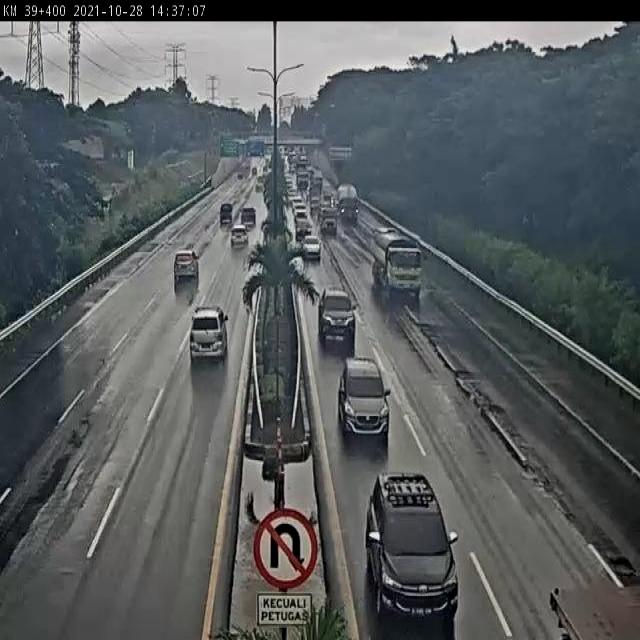Bus: (292, 203, 306, 220)
Car: (364, 464, 459, 624), (337, 357, 392, 442), (318, 287, 357, 348), (171, 250, 200, 282), (299, 234, 324, 263), (231, 222, 249, 247), (294, 218, 314, 238), (219, 200, 233, 225), (240, 206, 256, 225)
Truck: (369, 228, 424, 294), (338, 184, 360, 226), (318, 206, 338, 236)
Van: (190, 305, 229, 363)
